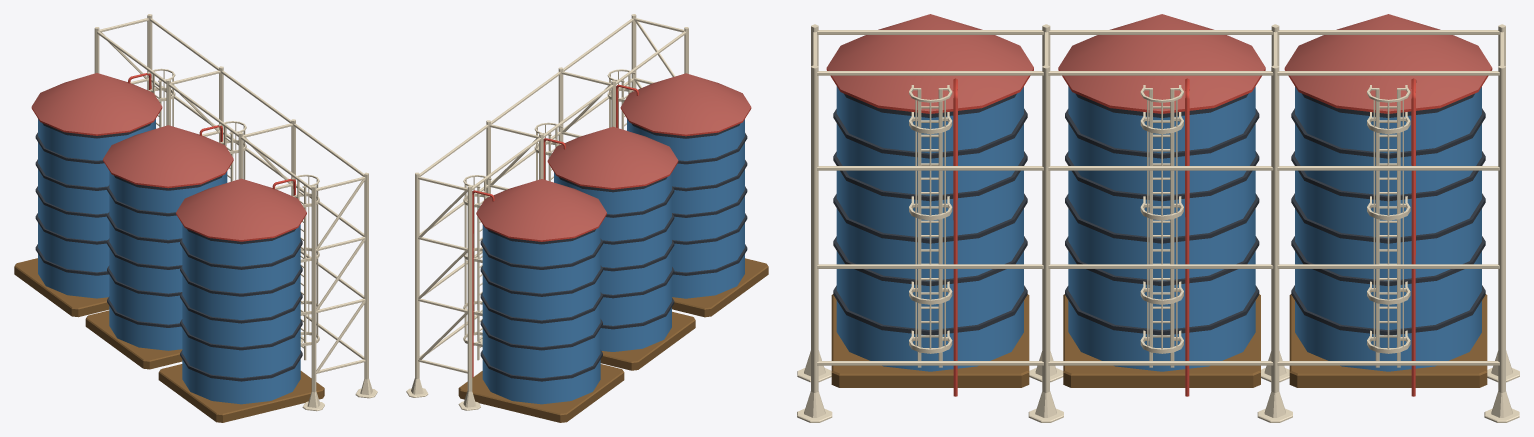
The model's file is farmstractures_19.gltf.
The picture shows the model from 3 angles, left to right: view 1: azimuth 30°, elevation 25°; view 2: azimuth 150°, elevation 25°; view 3: azimuth 270°, elevation 25°; orthographic projection. The views are drawn at different scales.
Visible parts, largest first — view 1: body, blades; view 2: body, blades; view 3: body, blades.
Part boxes in pixels (x1,y1,x2,y2): body: [14, 14, 377, 422]; blades: [94, 15, 368, 392]; body: [406, 14, 768, 422]; blades: [415, 15, 688, 391]; body: [797, 14, 1519, 422]; blades: [811, 26, 1505, 392].
Bounding box in the file's own units: 4.92 × 6.7 × 12.54.
1 material, 1 textured.
